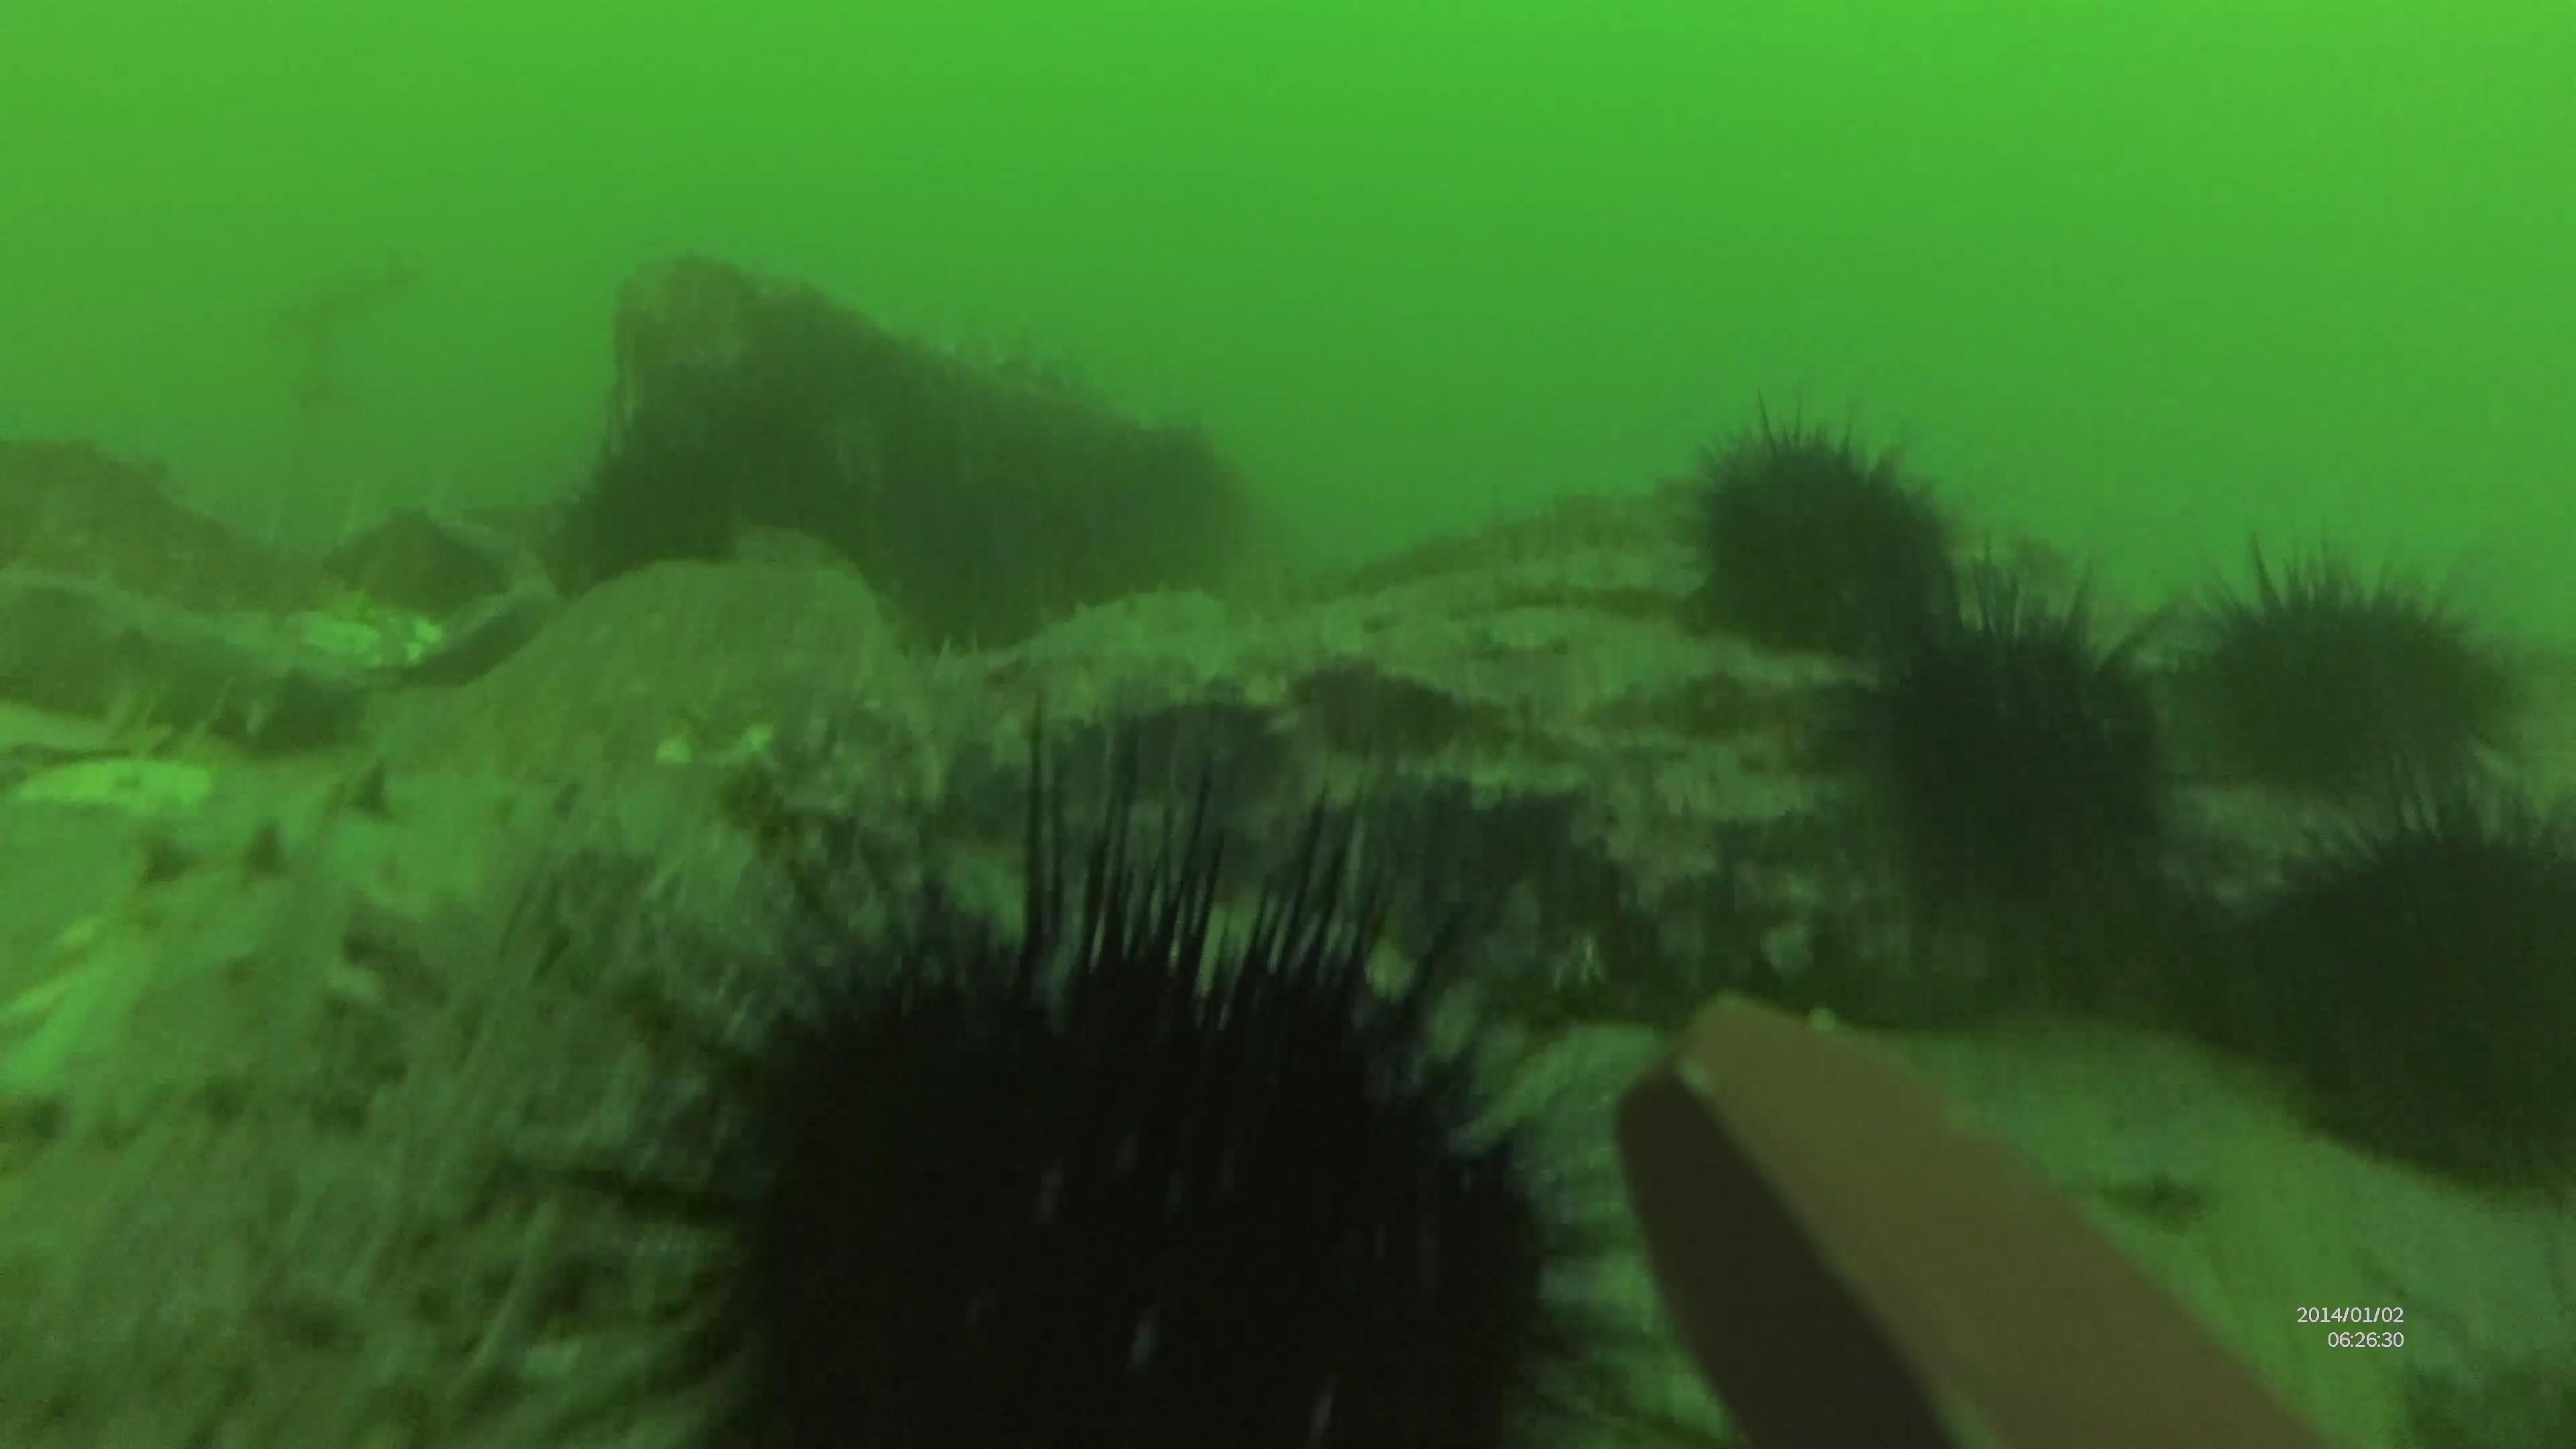echinus: (616, 741, 1679, 1444), (2242, 771, 2576, 1196), (1836, 554, 2189, 916), (2162, 533, 2528, 830), (1667, 400, 1971, 674), (557, 426, 750, 596)
holothurian: (2, 754, 557, 1141), (782, 580, 1260, 791), (4, 561, 375, 763)
